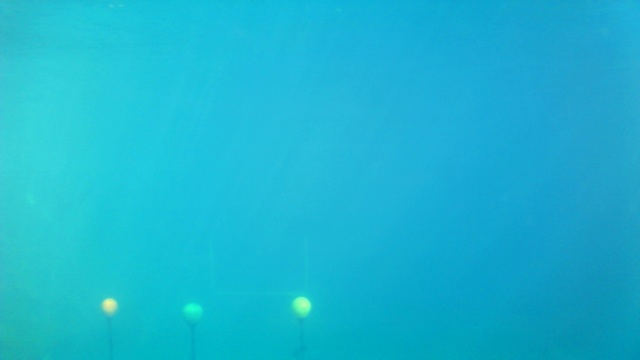buoy_green: (181, 302, 203, 327)
buoy_red: (101, 298, 117, 317)
